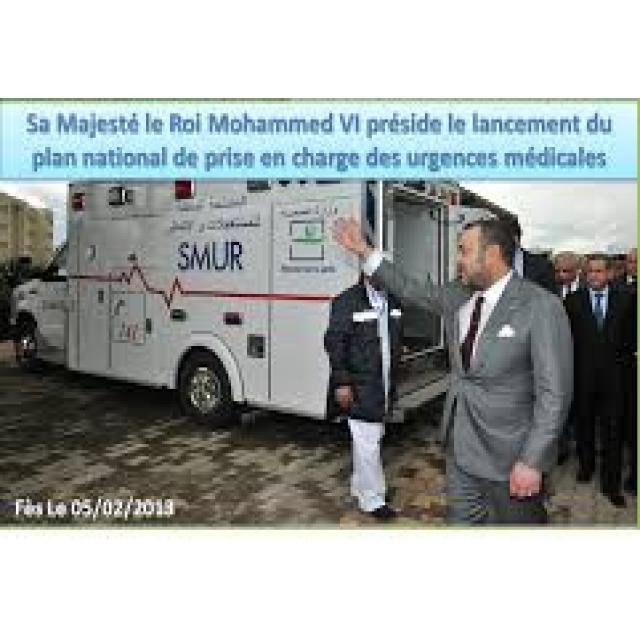ambulance: (8, 177, 464, 455)
